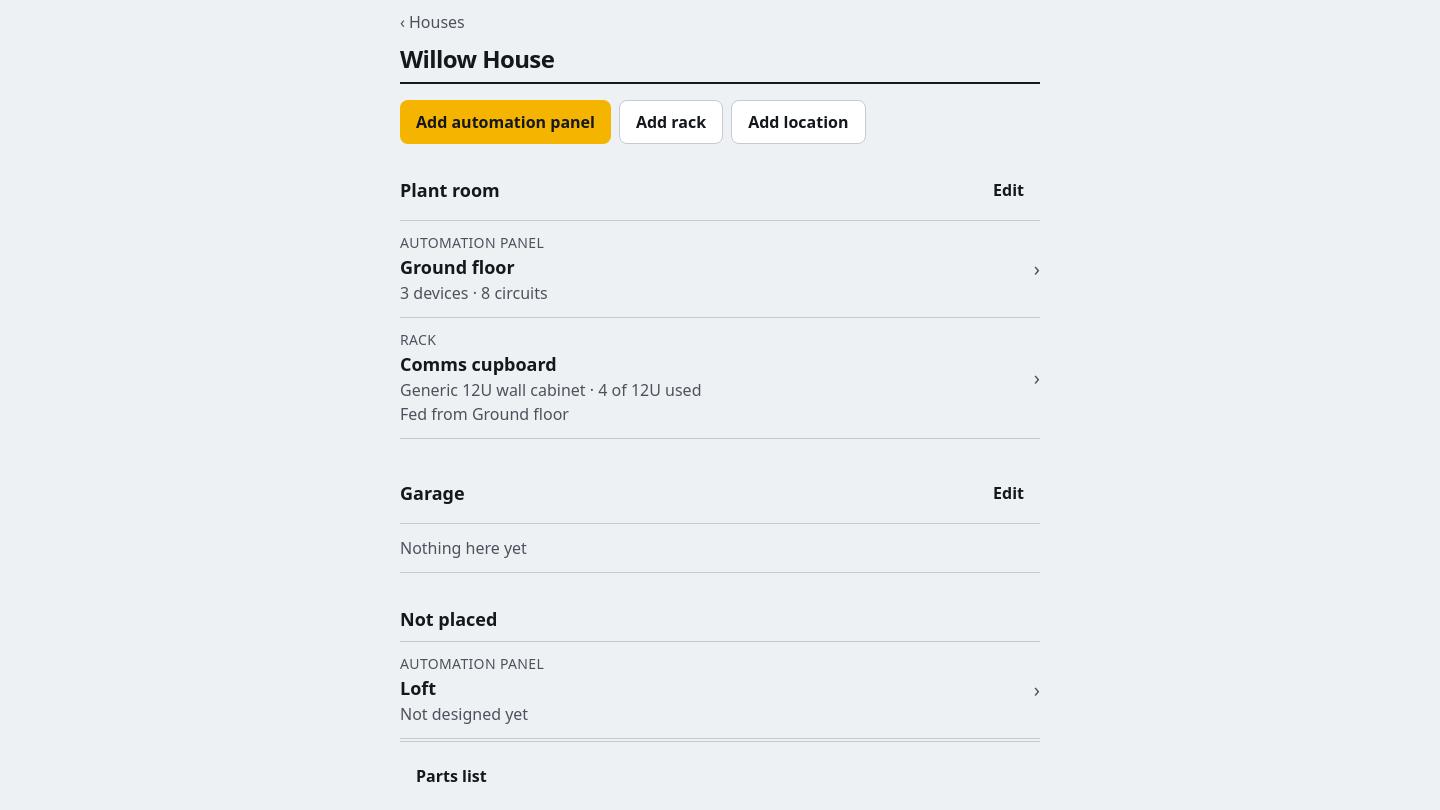
ProjectPage with locations › renames a location, keeping its notes
Click the button with aria-label "Edit Plant room".
click(1009, 190)  # box top-left (977, 168), bottom-right (1040, 212)
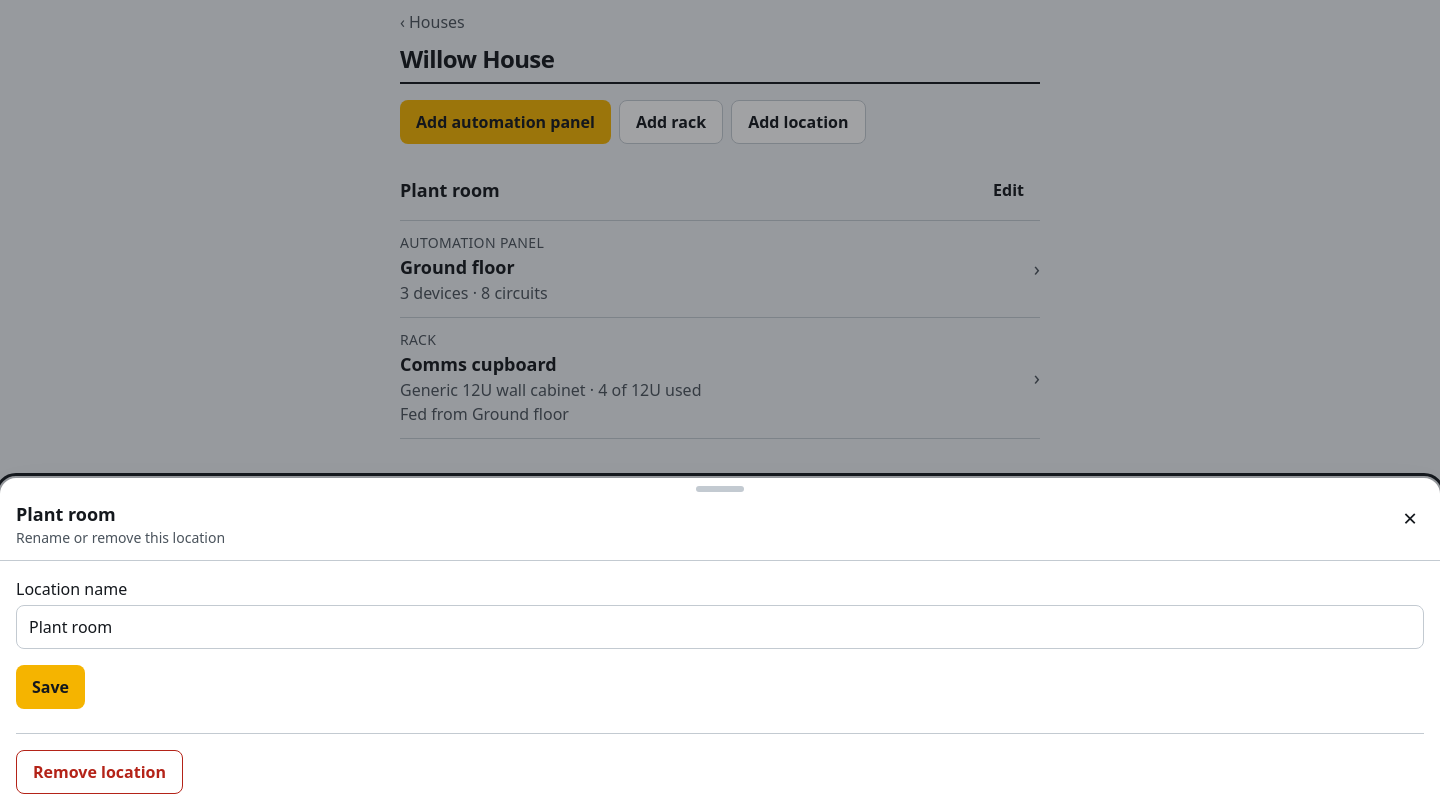
Type "Boiler room" into the field labelled "Location name".
click(720, 627); type("Boiler room")  # box top-left (16, 605), bottom-right (1424, 649)
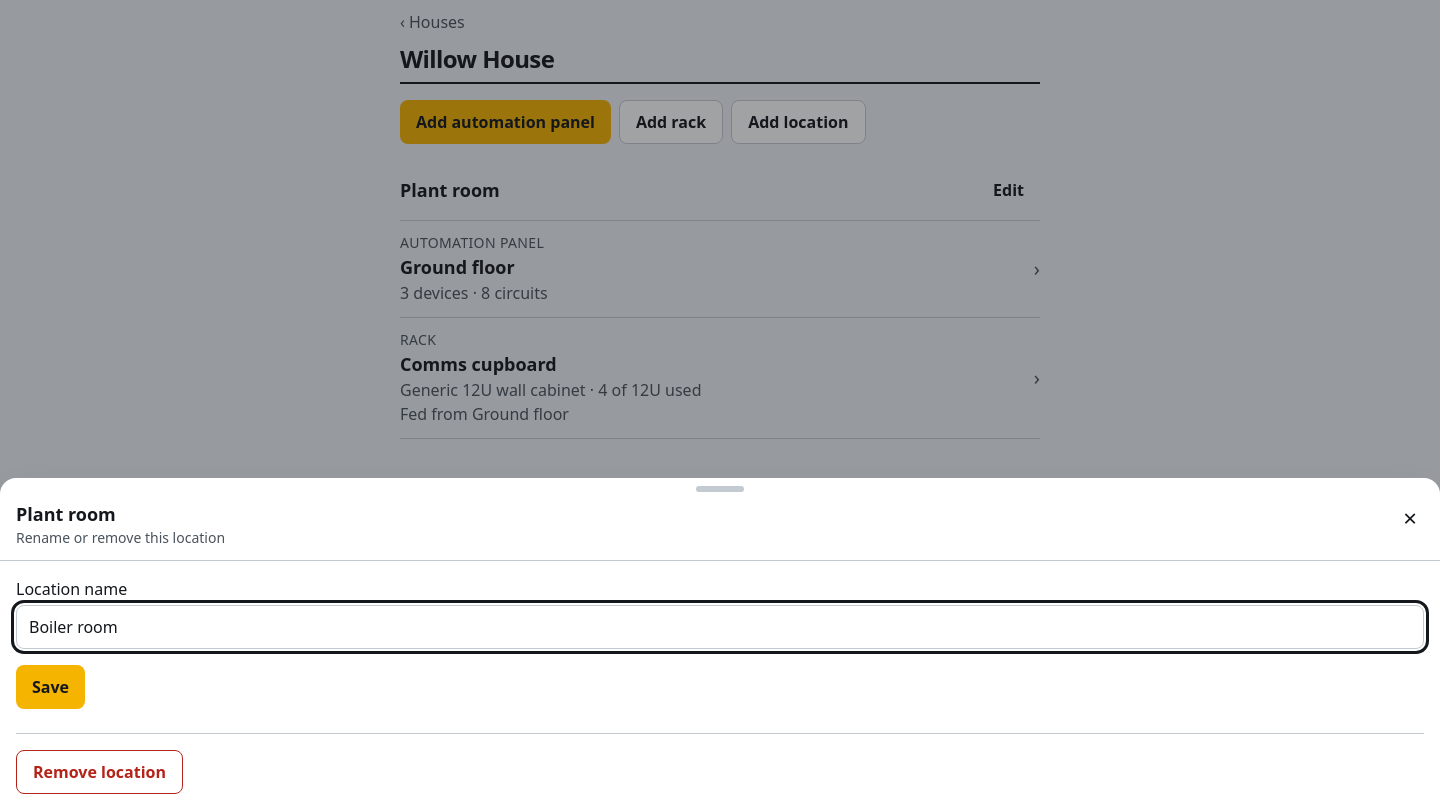
Click the button "Save".
click(50, 687)  # box top-left (16, 665), bottom-right (85, 709)
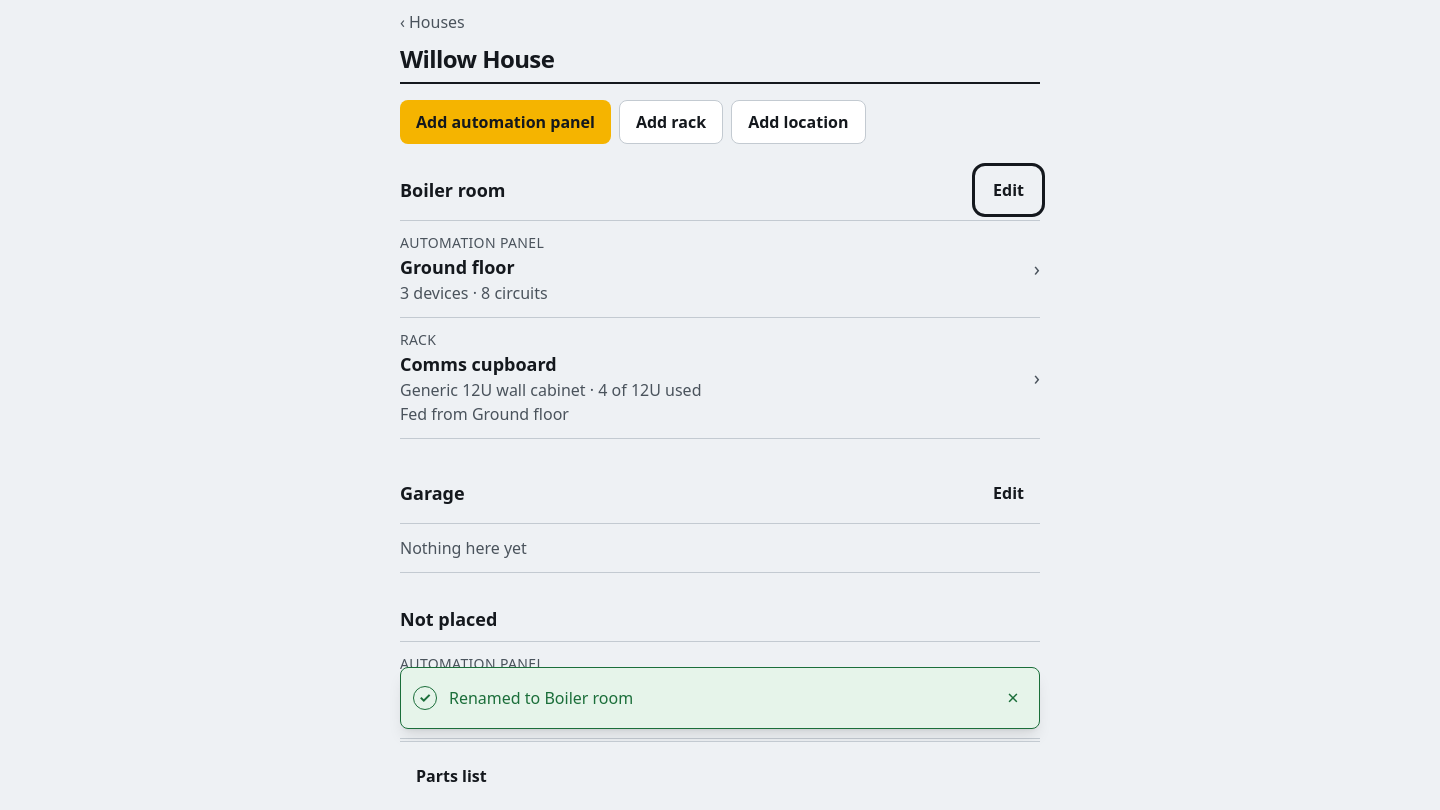
Check: the element "Boiler room" is shown, box top-left (400, 168), bottom-right (1040, 439)
